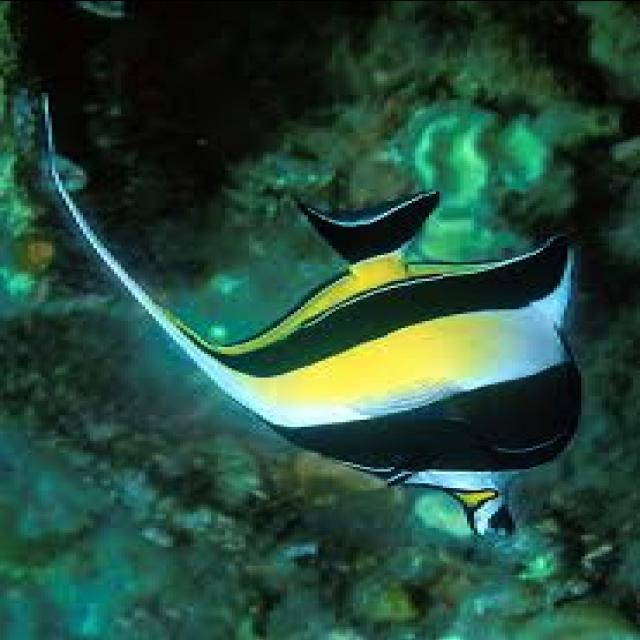MorishIdol: (39, 91, 592, 544)
